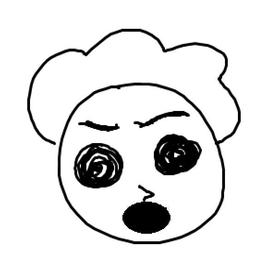eye: (71, 140, 124, 196), (153, 131, 203, 177)
eyebrow: (134, 108, 193, 130), (80, 117, 122, 134)
open_mouth: (117, 201, 174, 236)
pointy_nose: (136, 181, 162, 202)
